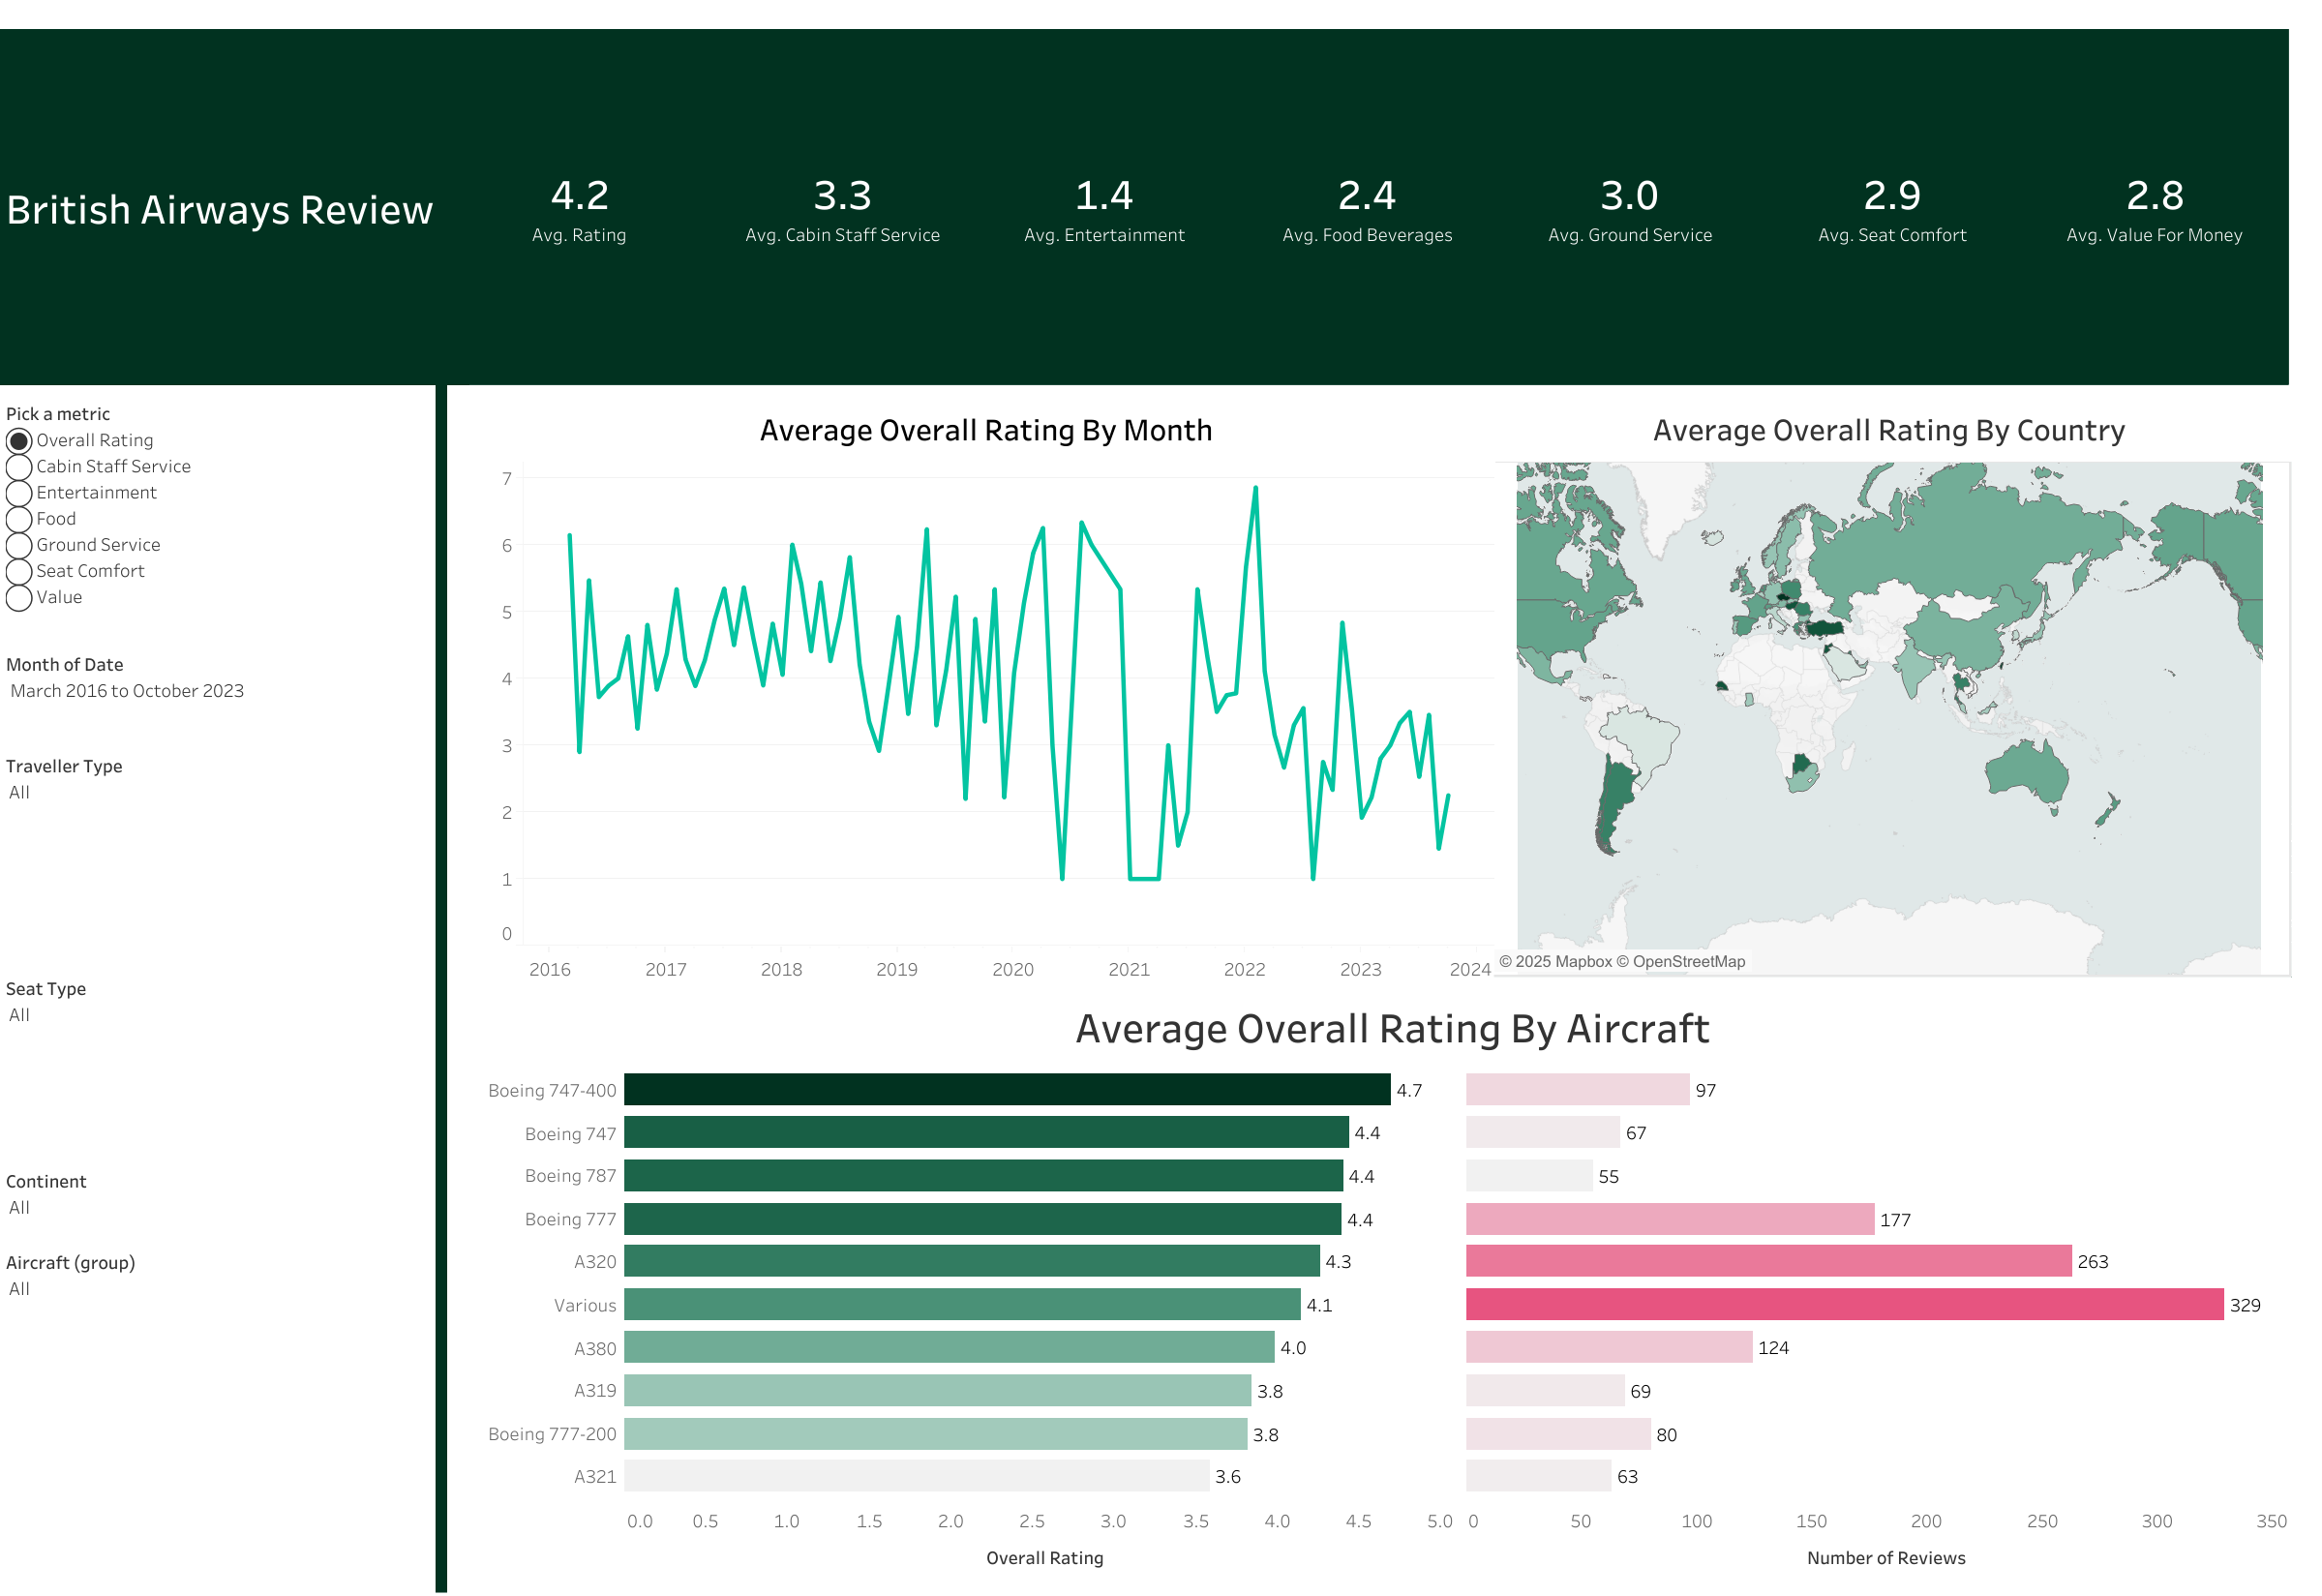

The page's visual inventory and layout, read from the dashboard file:
{"tool":"tableau","page":{"name":"Dashboard 1","canvas":[1000,1000],"units":"permille","ordinal":0},"visuals":[{"type":"worksheet","title":"Summary","mark":"Automatic","box":[193.1,18.2,791.2,221.8]},{"type":"blank","box":[187.5,90.9,5,906.4]},{"type":"parameter","param":"[Parameters].[Parameter 1]","box":[0,245.8,184.4,208.2]},{"type":"worksheet","title":"month","mark":"Automatic","rows":["Calculation_955326128310890496"],"cols":["date"],"box":[206.2,250,436.9,369.1]},{"type":"worksheet","title":"Sheet 1","mark":"Automatic","box":[640.6,250,345.6,361.8]},{"type":"filter","title":"Sheet 1","param":"[federated.06jxt930f53itm186yc0j1w2312d].[tmn:date:qk]","box":[0,454,184.4,70]},{"type":"filter","title":"Sheet 1","param":"[federated.06jxt930f53itm186yc0j1w2312d].[none:traveller_type:nk]","box":[0,524,184.4,183.6]},{"type":"worksheet","title":"Sheet 4","mark":"Automatic","cols":["Calculation_955326128310890496","ba!reviews_D53502A1B2A44A78AD20C8796F191D16"],"box":[206.2,620,786.9,369.1]},{"type":"filter","title":"Sheet 1","param":"[federated.06jxt930f53itm186yc0j1w2312d].[none:seat_type:nk]","box":[0,707.6,184.4,159.1]},{"type":"filter","title":"Sheet 1","param":"[federated.06jxt930f53itm186yc0j1w2312d].[none:Continent:nk]","box":[0,866.7,184.4,63.6]},{"type":"filter","title":"Sheet 1","param":"[federated.06jxt930f53itm186yc0j1w2312d].[Aircraft (group)]","box":[0,930.4,184.4,63.6]}]}

Visuals, with their boxes on the dashboard's canvas, which has no fixed pixel size, in thousandths of its width and height (x1, y1, x2, y2). These are canvas units, not pixel positions in the 2322x1596 screenshot, which may show the page scaled, cropped or inside an application window:
"Summary" worksheet: (left=193, top=18, right=984, bottom=240)
blank: (left=188, top=91, right=192, bottom=997)
parameter: (left=0, top=246, right=184, bottom=454)
"month" worksheet: (left=206, top=250, right=643, bottom=619)
"Sheet 1" worksheet: (left=641, top=250, right=986, bottom=612)
"Sheet 1" filter: (left=0, top=454, right=184, bottom=524)
"Sheet 1" filter: (left=0, top=524, right=184, bottom=708)
"Sheet 4" worksheet: (left=206, top=620, right=993, bottom=989)
"Sheet 1" filter: (left=0, top=708, right=184, bottom=867)
"Sheet 1" filter: (left=0, top=867, right=184, bottom=930)
"Sheet 1" filter: (left=0, top=930, right=184, bottom=994)
